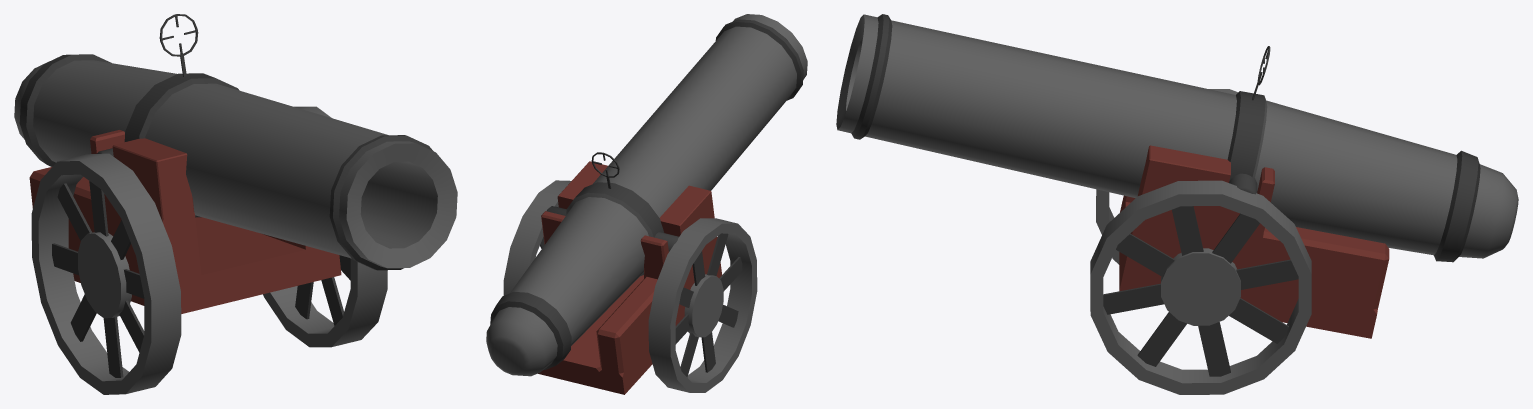
Rendered from cannon3.fbx.
The picture shows the model from 3 angles, left to right: view 1: azimuth 30°, elevation 25°; view 2: azimuth 150°, elevation 25°; view 3: azimuth 270°, elevation 25°; orthographic projection. The views are drawn at different scales.
Parts seen in each view (by area): view 1: Circle, Circle.007, Plane.001, Circle.008, Plane.010, Circle.006, Plane.011, Circle.001; view 2: Circle, Plane.001, Circle.007, Plane.010, Circle.008, Circle.006, Circle.002, Circle.001; view 3: Circle, Plane.001, Circle.008, Plane.011, Circle.009, Circle.007.
Part boxes in pixels (x1,y1,x2,y2): Circle: (14,54,457,270); Circle.007: (31,153,181,394); Plane.001: (29,130,341,313); Circle.008: (263,106,387,347); Plane.010: (52,181,144,377); Circle.006: (78,232,131,318); Plane.011: (295,255,350,325); Circle.001: (159,14,198,76); Circle: (486,14,807,376); Plane.001: (538,161,721,394); Circle.007: (648,218,757,392); Plane.010: (675,233,742,377); Circle.008: (503,180,571,295); Circle.006: (684,274,723,337); Circle.002: (546,206,678,251); Circle.001: (591,152,619,188); Circle: (836,14,1518,262); Plane.001: (1119,145,1389,338); Circle.008: (1090,180,1311,394); Plane.011: (1103,206,1298,376); Circle.009: (1161,248,1240,325); Circle.007: (1096,89,1237,264).
Bounding box in the file's own units: 175 × 250 × 479.
